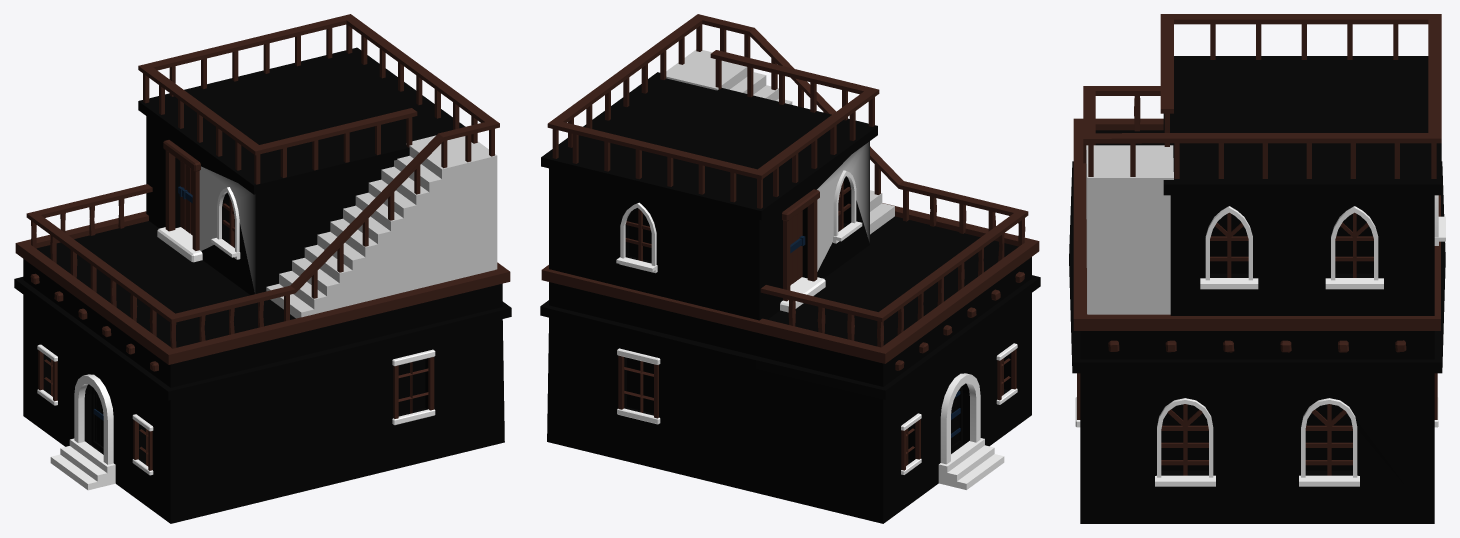
File: civilian_house_32_b.FBX
The picture shows the model from 3 angles, left to right: view 1: azimuth 30°, elevation 25°; view 2: azimuth 150°, elevation 25°; view 3: azimuth 270°, elevation 25°; orthographic projection. The views are drawn at different scales.
Visible parts, largest first — view 1: civilian_house_32_b; view 2: civilian_house_32_b; view 3: civilian_house_32_b.
Boxes of the visible parts, box(x1,y1,x2,y2) form: civilian_house_32_b: box(14, 14, 511, 523); civilian_house_32_b: box(540, 14, 1040, 523); civilian_house_32_b: box(1069, 14, 1445, 523).
Size of the model in its own units: 1157 by 955 by 851.
